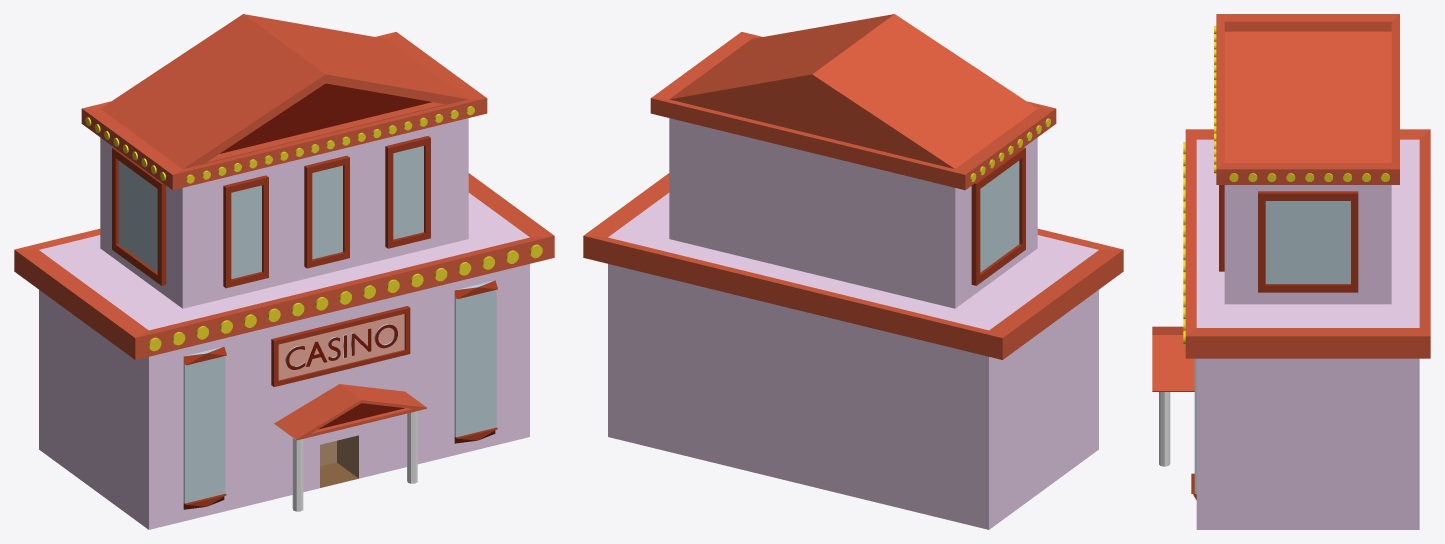
The model's file is casino.fbx.
3 views of the same model, side by side, from view 1: azimuth 30°, elevation 25°; view 2: azimuth 150°, elevation 25°; view 3: azimuth 270°, elevation 25° (orthographic).
Visible parts, largest first — view 1: Cube; view 2: Cube; view 3: Cube.
Boxes of the visible parts, left/top/right/bottom form: Cube: left=14, top=14, right=554, bottom=529; Cube: left=583, top=14, right=1123, bottom=529; Cube: left=1152, top=14, right=1430, bottom=529.
Size of the model in its own units: 2200 by 2002 by 1250.
